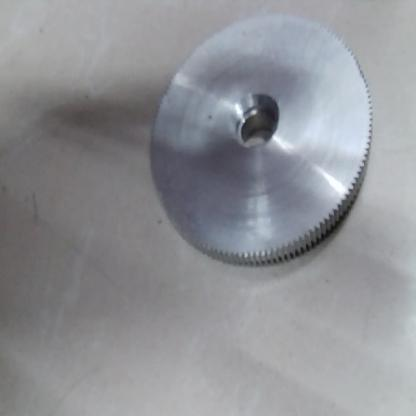FOD: (149, 12, 383, 278)
